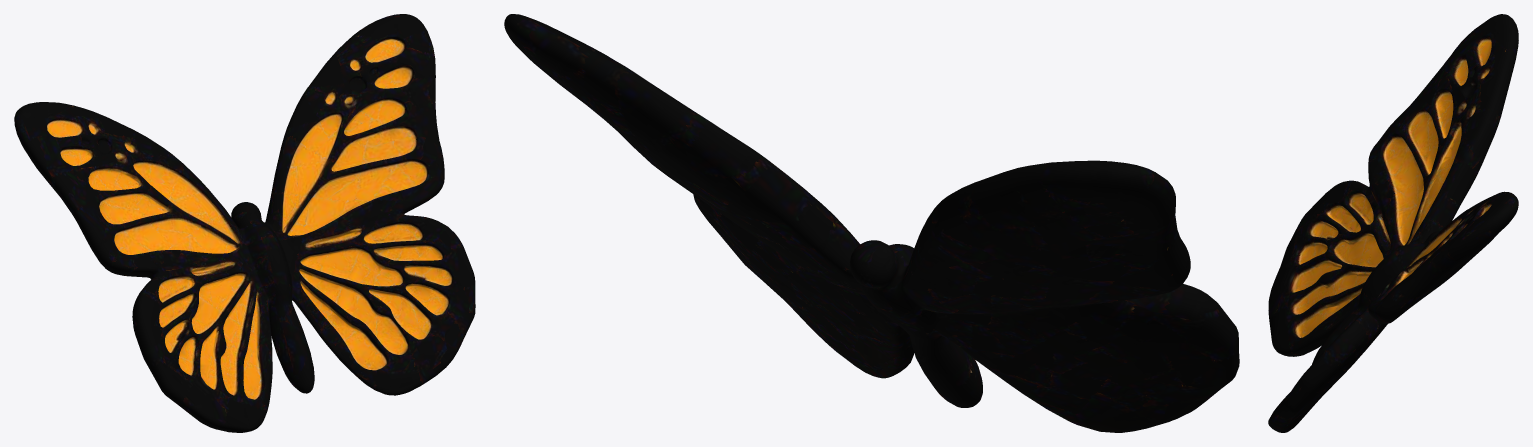
The picture shows the model from 3 angles, left to right: view 1: azimuth 30°, elevation 25°; view 2: azimuth 150°, elevation 25°; view 3: azimuth 270°, elevation 25°; orthographic projection. The views are drawn at different scales.
Size of the model in its own units: 1.9 by 1.21 by 0.9824.
1 material, 1 textured.
